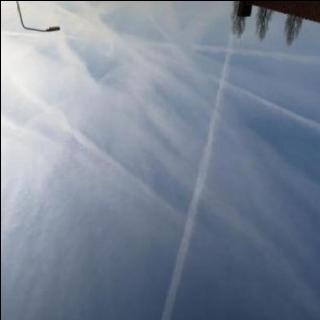Contrails: (0, 13, 320, 320)
